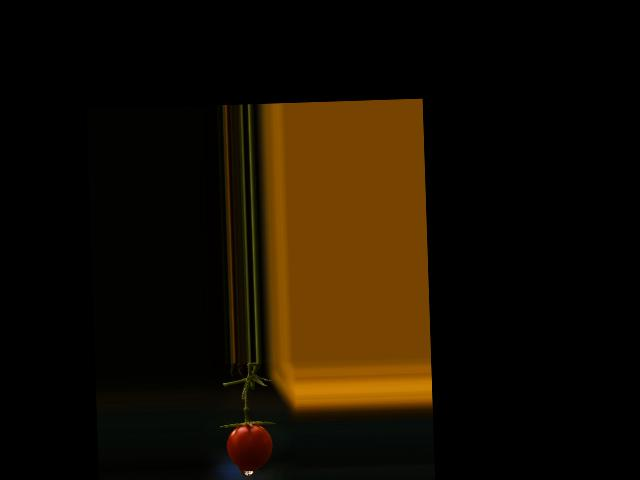tomato: (225, 423, 272, 470)
